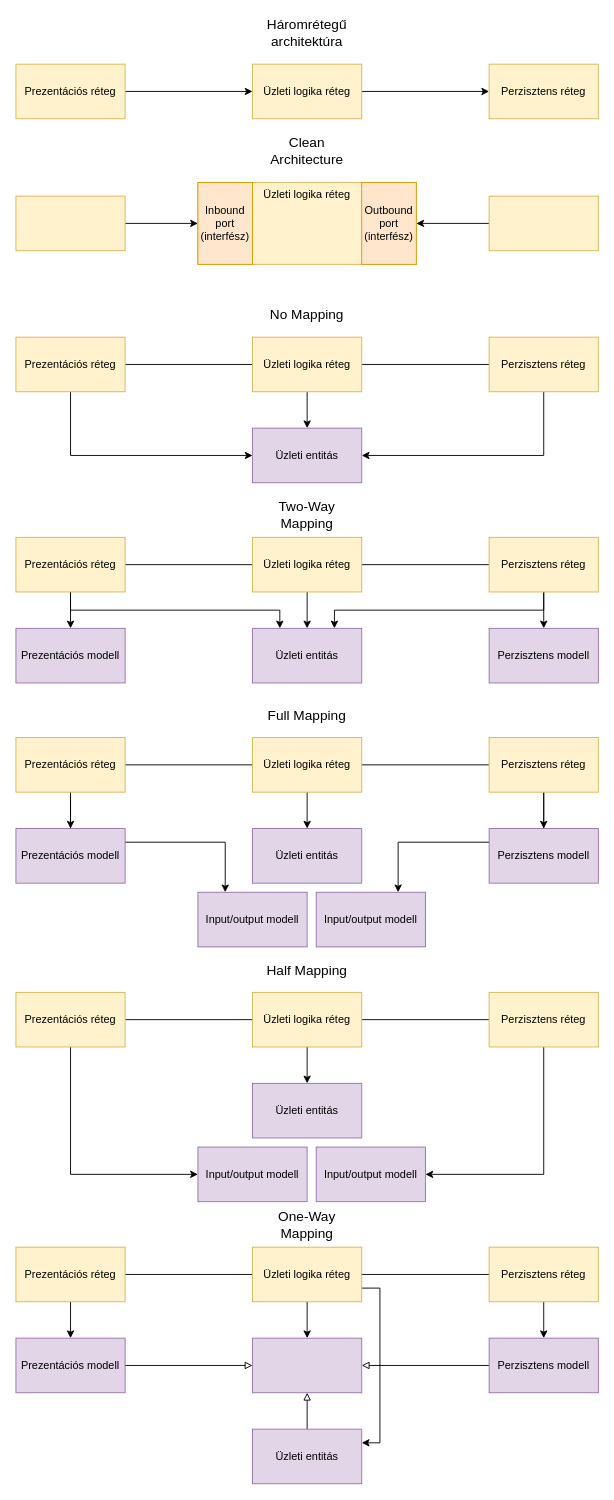
This 614x1500 diagram has some shape labels left out. Each missing label, with the centre of its shape:
"Modell interfész" belongs at point (307, 1365).
"Perzisztens réteg (adapter)" belongs at point (543, 223).
"Prezentációs réteg (adapter)" belongs at point (70, 223).
